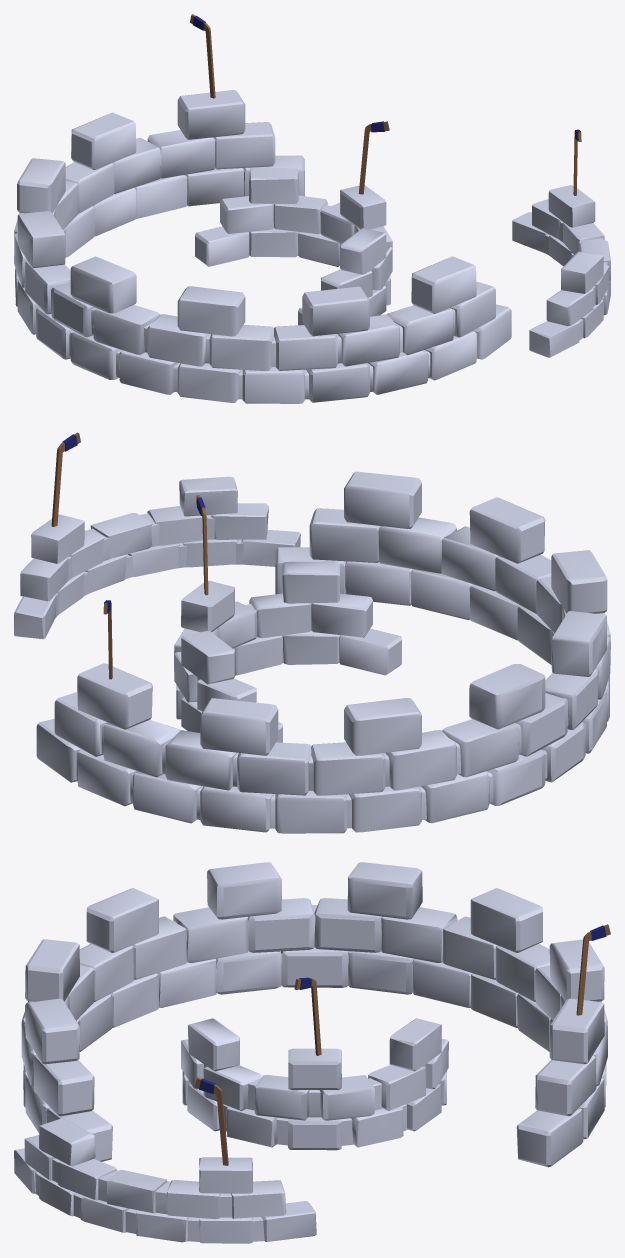
The model's file is fort.fbx.
The picture shows the model from 3 angles, top to bottom: view 1: azimuth 30°, elevation 25°; view 2: azimuth 150°, elevation 25°; view 3: azimuth 270°, elevation 25°; orthographic projection. The views are drawn at different scales.
Visible parts, largest first — view 1: fullFort.001, fullFort, innerBrick.000, Cube.295, Cube.297; view 2: fullFort.001, fullFort, innerBrick.000, Cube.299, Cube.297; view 3: fullFort.001, fullFort, innerBrick.000, Cube.295, Cube.299, Cube.297.
Part boxes in pixels (x1=…): fullFort.001: x1=14, y1=90, x2=511, y2=403; fullFort: x1=195, y1=167, x2=392, y2=325; innerBrick.000: x1=512, y1=185, x2=610, y2=357; Cube.295: x1=190, y1=14, x2=215, y2=98; Cube.297: x1=358, y1=121, x2=389, y2=194; fullFort.001: x1=36, y1=471, x2=610, y2=833; fullFort: x1=174, y1=561, x2=401, y2=742; innerBrick.000: x1=14, y1=476, x2=300, y2=639; Cube.299: x1=51, y1=432, x2=80, y2=526; Cube.297: x1=196, y1=495, x2=208, y2=595; fullFort.001: x1=21, y1=862, x2=607, y2=1167; fullFort: x1=181, y1=1018, x2=448, y2=1150; innerBrick.000: x1=14, y1=1118, x2=316, y2=1243; Cube.295: x1=576, y1=924, x2=610, y2=1015; Cube.299: x1=194, y1=1077, x2=228, y2=1165; Cube.297: x1=294, y1=977, x2=321, y2=1055.
Size of the model in its own units: 6009 by 2021 by 5540.
